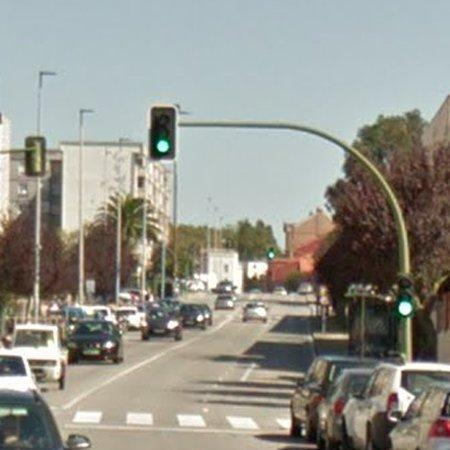crosswalks: (67, 411, 292, 430)
